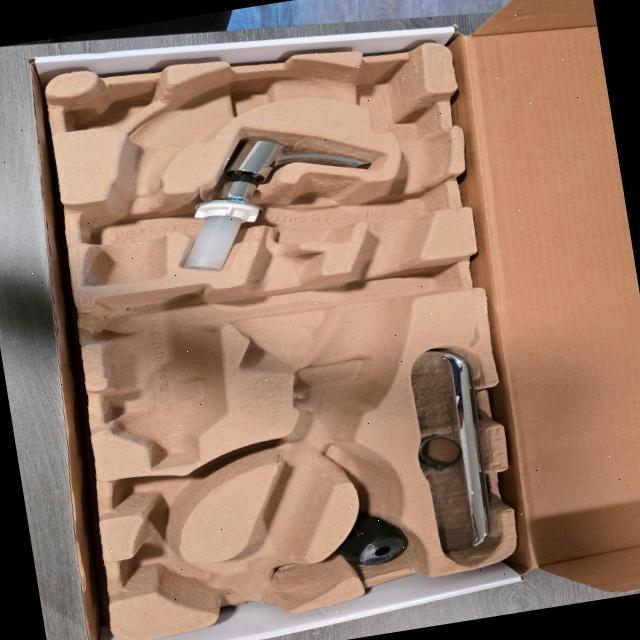1m: (88, 64, 450, 626)
2: (181, 139, 375, 269)
3m: (96, 284, 232, 474)
4: (414, 351, 492, 553)
5: (339, 515, 411, 567)
6m: (119, 541, 218, 606)
7m: (109, 459, 246, 533)
